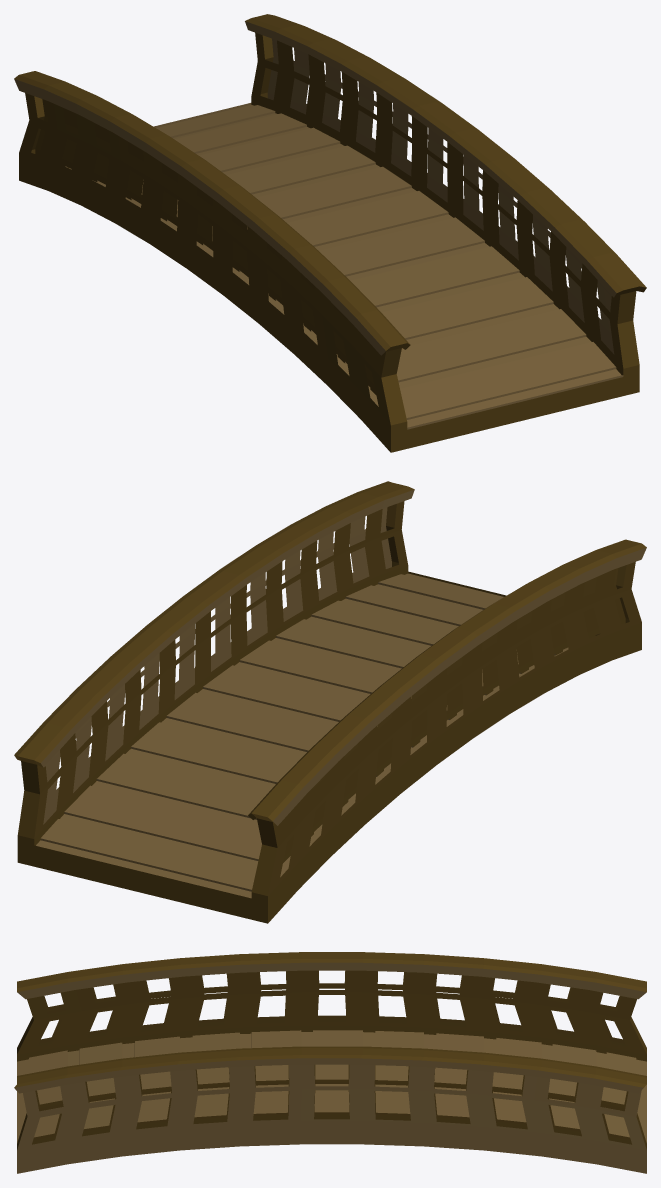
File: bridge_Col.fbx
The picture shows the model from 3 angles, top to bottom: view 1: azimuth 30°, elevation 25°; view 2: azimuth 150°, elevation 25°; view 3: azimuth 270°, elevation 25°; orthographic projection. The views are drawn at different scales.
Parts seen in each view (by area): view 1: Bridge; view 2: Bridge; view 3: Bridge.
Boxes of the visible parts, x1=… form: Bridge: x1=14, y1=14, x2=646, y2=452; Bridge: x1=14, y1=481, x2=646, y2=923; Bridge: x1=14, y1=952, x2=646, y2=1173.
Size of the model in its own units: 57.25 by 29.67 by 143.
